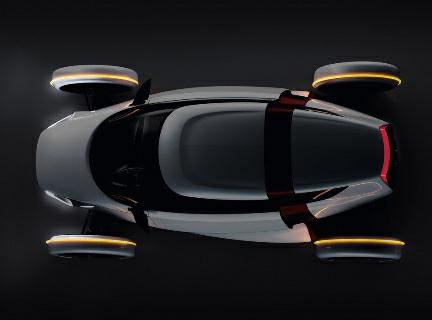奥迪-Urban: (30, 56, 412, 282)
